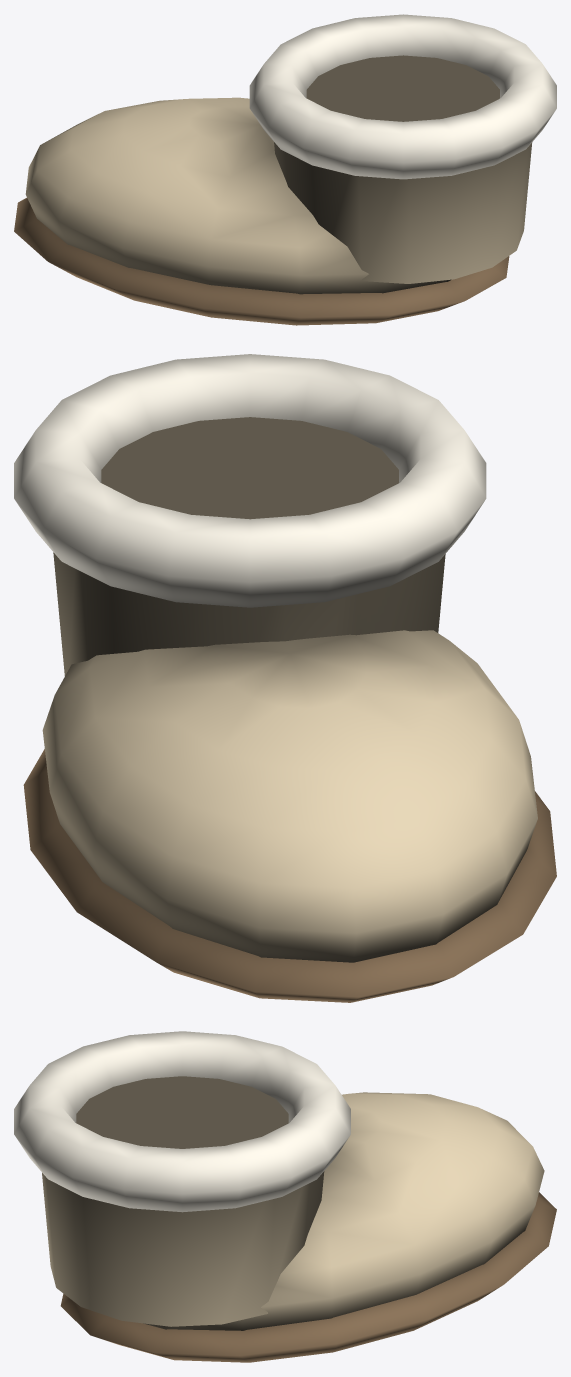
File: polar_feet.fbx
The picture shows the model from 3 angles, top to bottom: view 1: azimuth 30°, elevation 25°; view 2: azimuth 150°, elevation 25°; view 3: azimuth 270°, elevation 25°; orthographic projection. The views are drawn at different scales.
Parts seen in each view (by area): view 1: polar_feet; view 2: polar_feet; view 3: polar_feet.
Part boxes in pixels (x1,y1,x2,y2): polar_feet: [14, 14, 556, 325]; polar_feet: [14, 354, 556, 1002]; polar_feet: [14, 1031, 556, 1362].
Bounding box in the file's own units: 0.8025 × 0.4383 × 0.8566.
